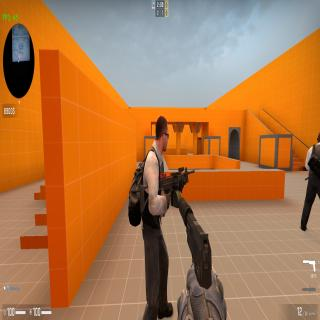T-Body: (129, 134, 176, 320), (302, 142, 320, 234)
T-Head: (155, 115, 169, 156), (317, 129, 320, 147)
